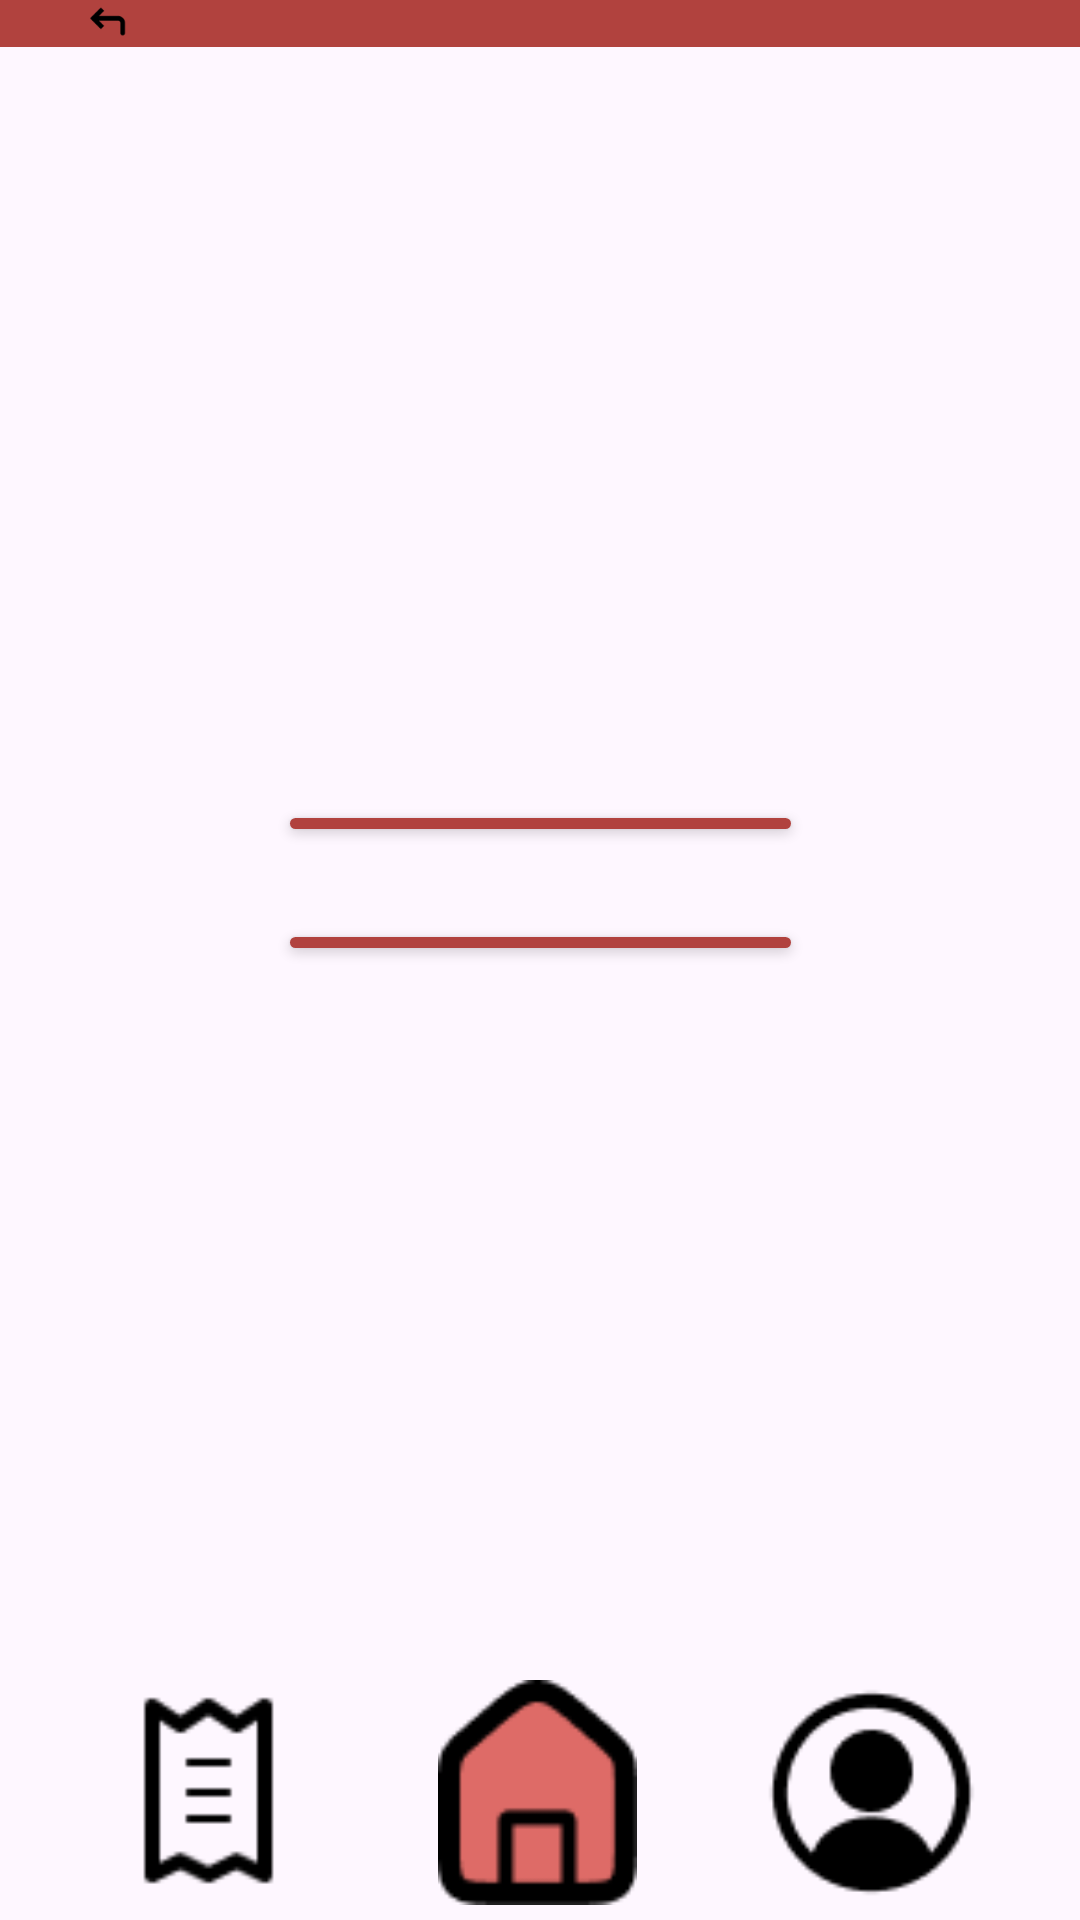

Where to tap for icons on this 1080x1920 app screen, as (x,y):
back: (108,21)
home: (537,1792)
ticket: (208,1790)
user cicrle duotone line: (871,1792)
